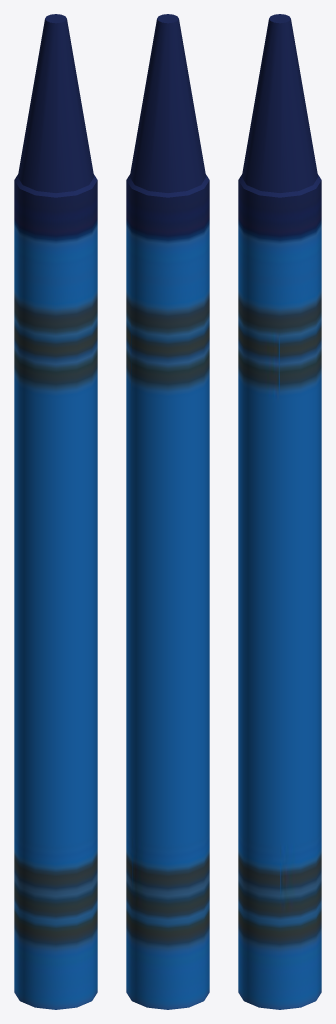
The model's file is toy_crayon_blue.glb.
3 views of the same model, side by side, from view 1: azimuth 90°, elevation 25°; view 2: azimuth 210°, elevation 25°; view 3: azimuth 270°, elevation 25° (orthographic).
Visible parts, largest first — view 1: toy_crayon_blue; view 2: toy_crayon_blue; view 3: toy_crayon_blue.
Part boxes in pixels (x1,y1,x2,y2): toy_crayon_blue: [14, 14, 97, 1009]; toy_crayon_blue: [126, 14, 209, 1009]; toy_crayon_blue: [238, 14, 321, 1009].
Bounding box in the file's own units: 1.24 × 16 × 1.24.
Materials: 1 (1 with a texture image).
